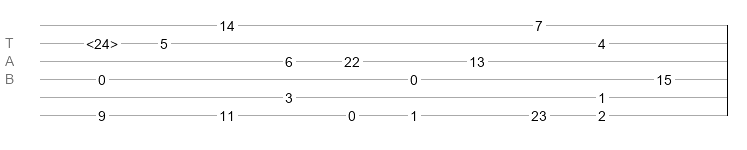0: (98, 72, 106, 82), (348, 108, 356, 118), (410, 72, 418, 82)
1: (410, 108, 418, 118), (598, 90, 606, 100)
11: (219, 108, 235, 118)
13: (469, 54, 485, 64)
14: (219, 18, 235, 28)
15: (656, 72, 672, 82)
2: (598, 108, 606, 118)
22: (344, 54, 360, 64)
23: (531, 108, 547, 118)
3: (285, 90, 293, 100)
4: (598, 36, 606, 46)
5: (160, 36, 168, 46)
6: (285, 54, 293, 64)
7: (535, 18, 543, 28)
9: (98, 108, 106, 118)
harmonic: (86, 36, 118, 46)
